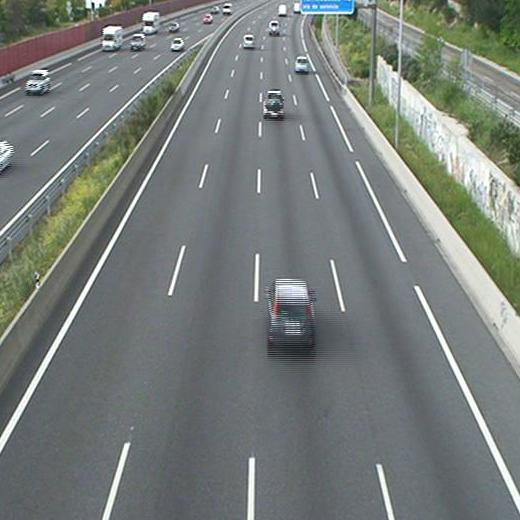car: (266, 279, 316, 350), (264, 89, 284, 119), (295, 54, 310, 74), (243, 34, 256, 49), (269, 20, 280, 36)
